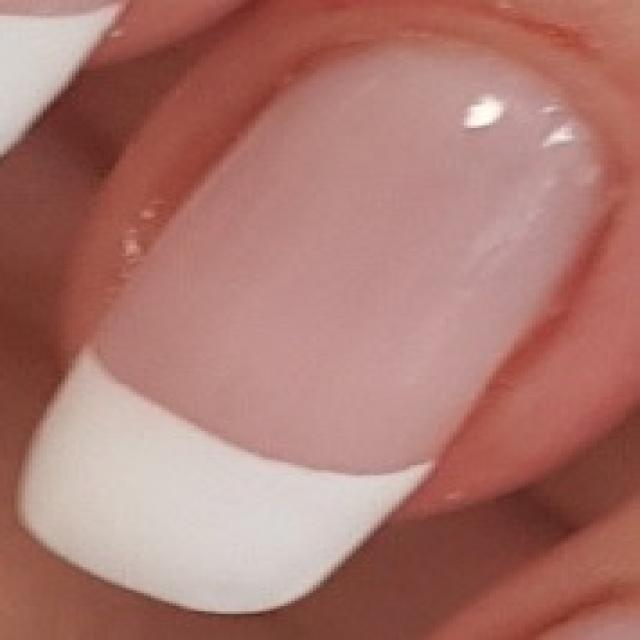Nail: (21, 44, 600, 612)
